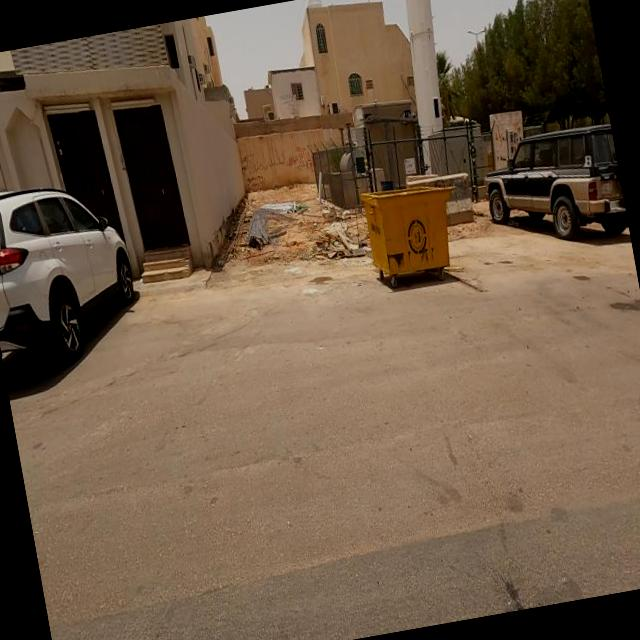debris: (281, 182, 377, 300), (214, 168, 296, 302), (252, 168, 332, 250)
